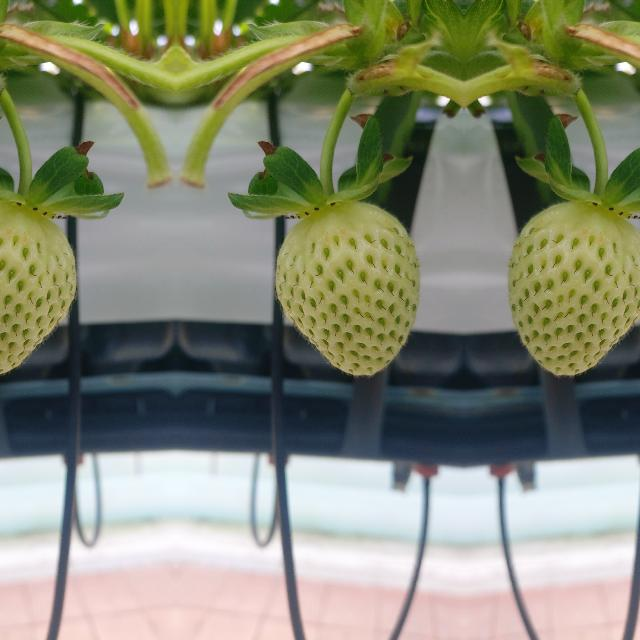Health_25: (274, 202, 418, 374), (507, 201, 640, 374), (0, 201, 76, 374)
